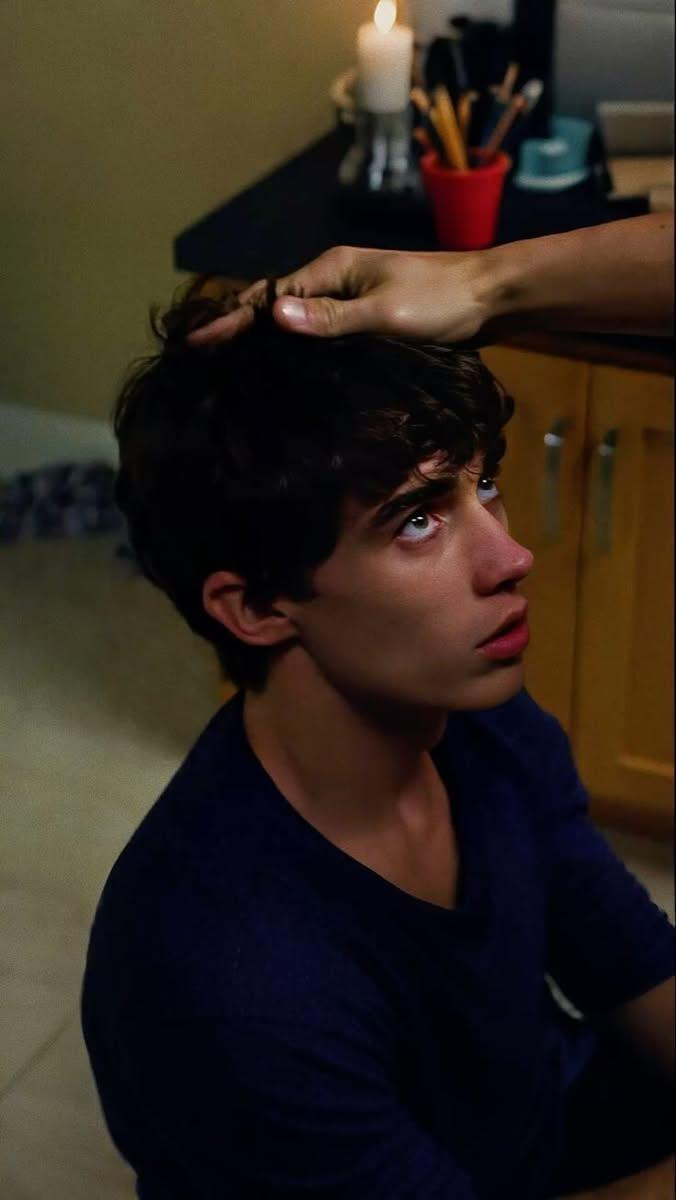non-dog: (78, 292, 676, 1200)
